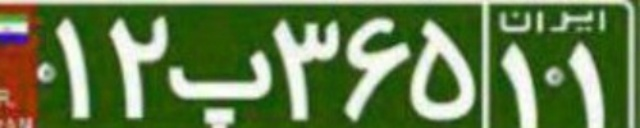1: (50, 17, 97, 121), (496, 42, 546, 127), (564, 39, 610, 127)
2: (107, 13, 167, 120)
3: (270, 16, 340, 122)
5: (411, 15, 481, 122)
6: (340, 15, 410, 122)
pe: (166, 48, 272, 127)
